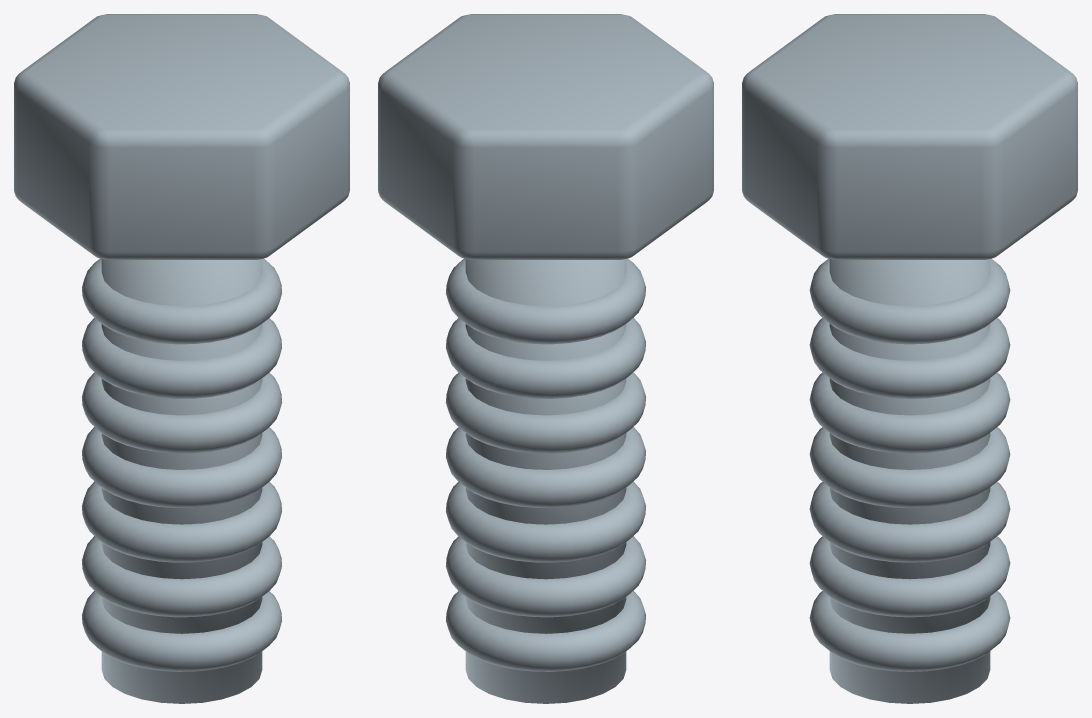
File: bolt.glb
The picture shows the model from 3 angles, left to right: view 1: azimuth 30°, elevation 25°; view 2: azimuth 150°, elevation 25°; view 3: azimuth 270°, elevation 25°; orthographic projection.
Visible parts, largest first — view 1: bolt_textured_mesh; view 2: bolt_textured_mesh; view 3: bolt_textured_mesh.
Part boxes in pixels (x1,y1,x2,y2): bolt_textured_mesh: (14, 14, 349, 703); bolt_textured_mesh: (378, 14, 713, 703); bolt_textured_mesh: (742, 14, 1077, 703).
Bounding box in the file's own units: 0.5196 × 1.15 × 0.5856.
Materials: 1 (1 with a texture image).
